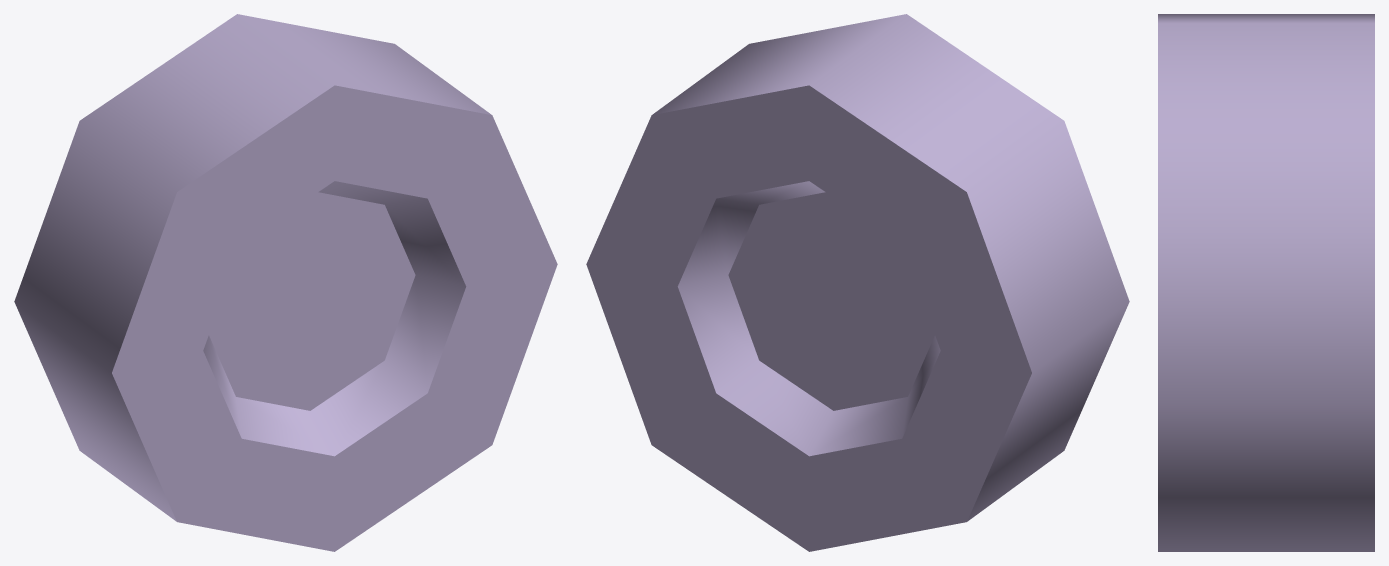
The model's file is frisbee_purple.glb.
3 views of the same model, side by side, from view 1: azimuth 30°, elevation 25°; view 2: azimuth 150°, elevation 25°; view 3: azimuth 270°, elevation 25° (orthographic). The views are drawn at different scales.
Visible parts, largest first — view 1: frisbee_purple; view 2: frisbee_purple; view 3: frisbee_purple.
Boxes of the visible parts, x1,y1,x2,y2 form: frisbee_purple: [14, 14, 557, 551]; frisbee_purple: [586, 14, 1129, 551]; frisbee_purple: [1158, 14, 1374, 551].
Bounding box in the file's own units: 12 × 12 × 4.55.
